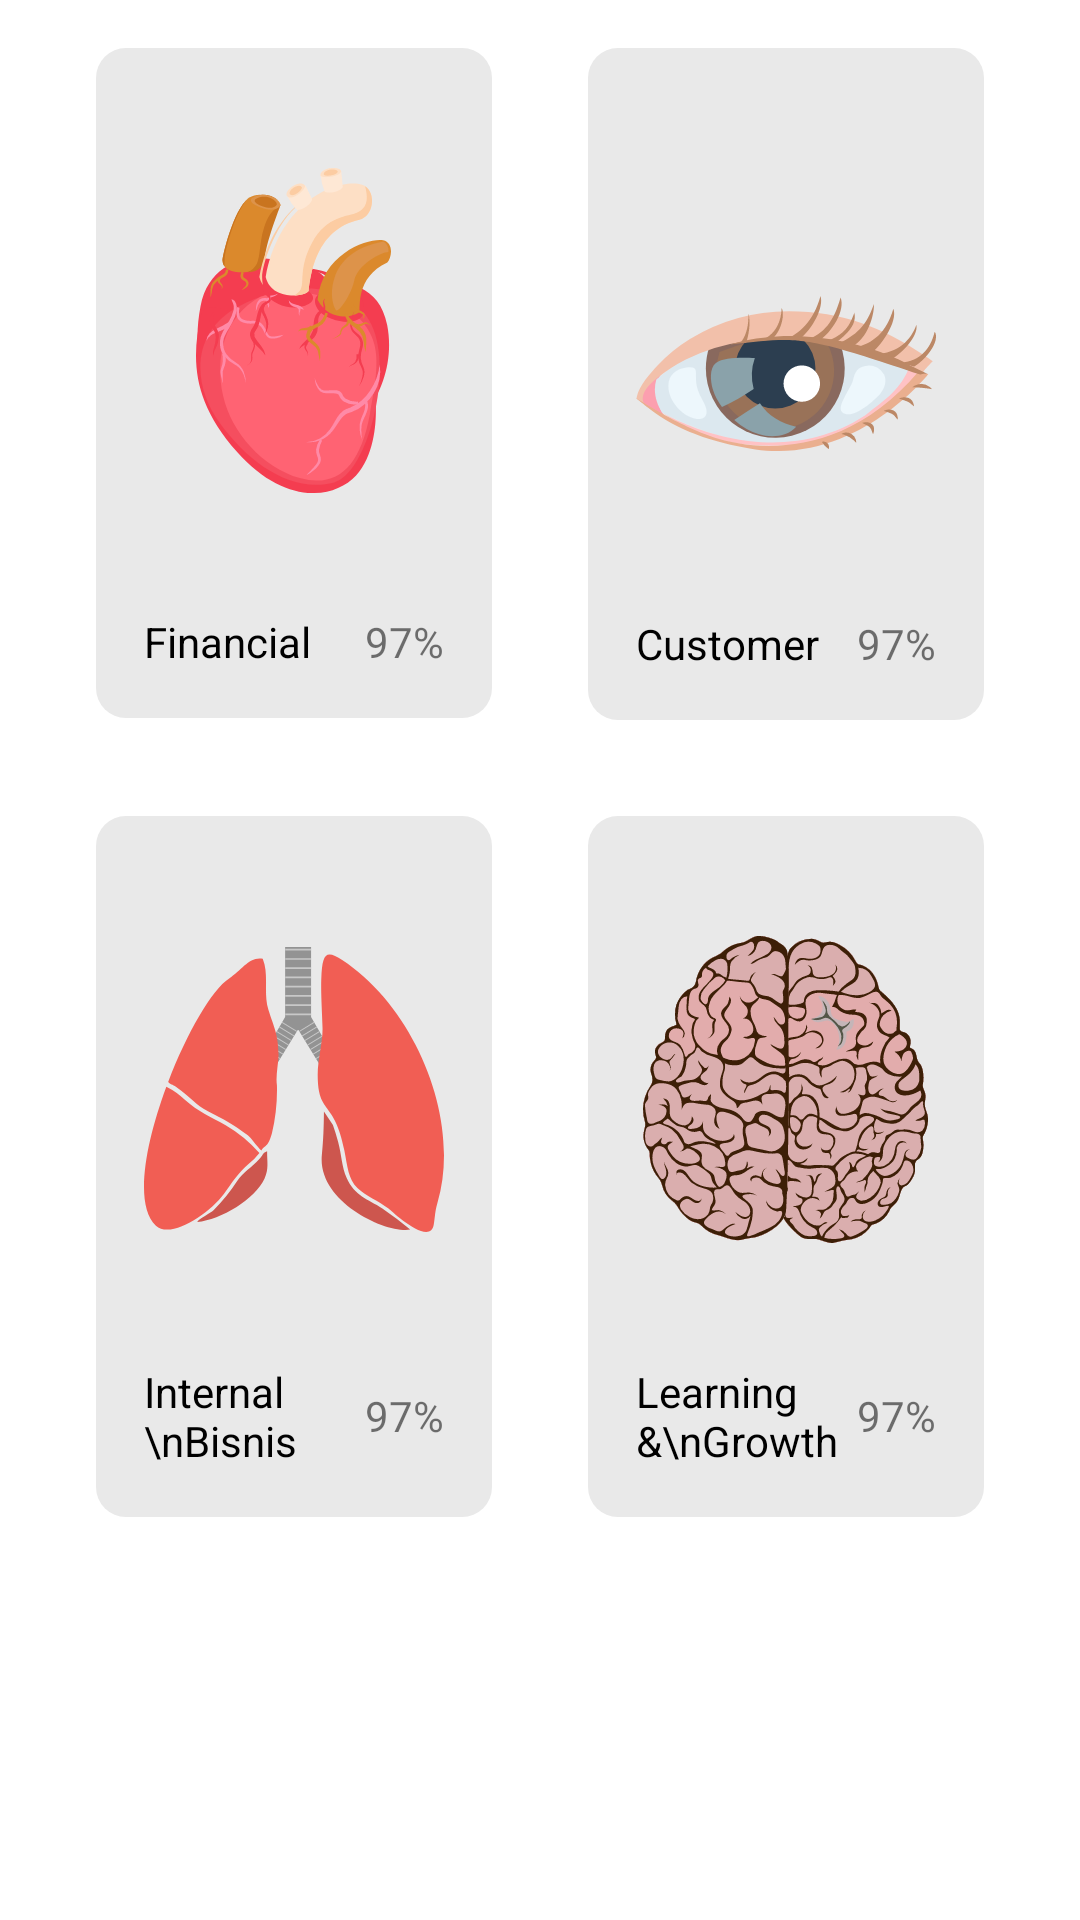

Screen size 1080 x 1920. Icon name, then its box in pixels as (x1, y1, x2, y2):
jantung: (196, 168, 391, 493)
mata: (636, 296, 936, 451)
otak: (643, 936, 928, 1243)
paru: (144, 947, 444, 1232)
